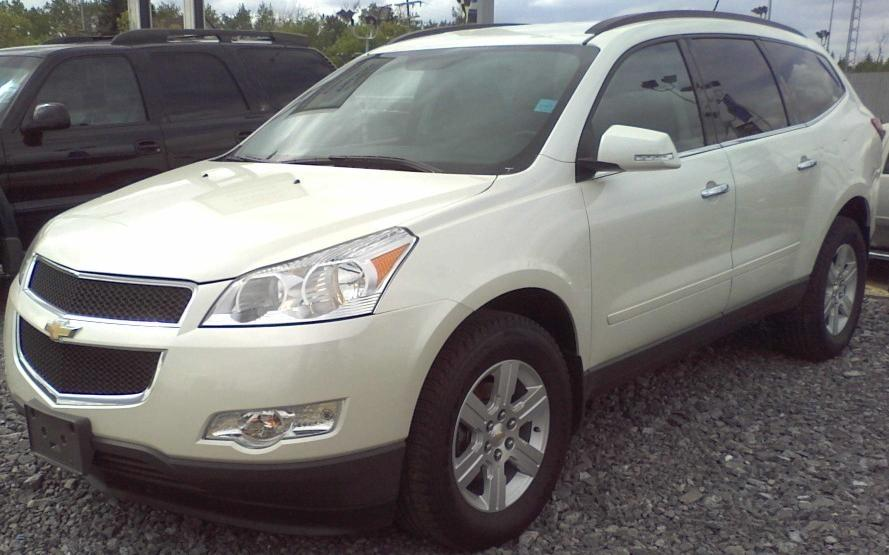front_view: (0, 199, 425, 542)
headlight: (186, 213, 434, 342)
side_glass: (588, 31, 853, 181)
